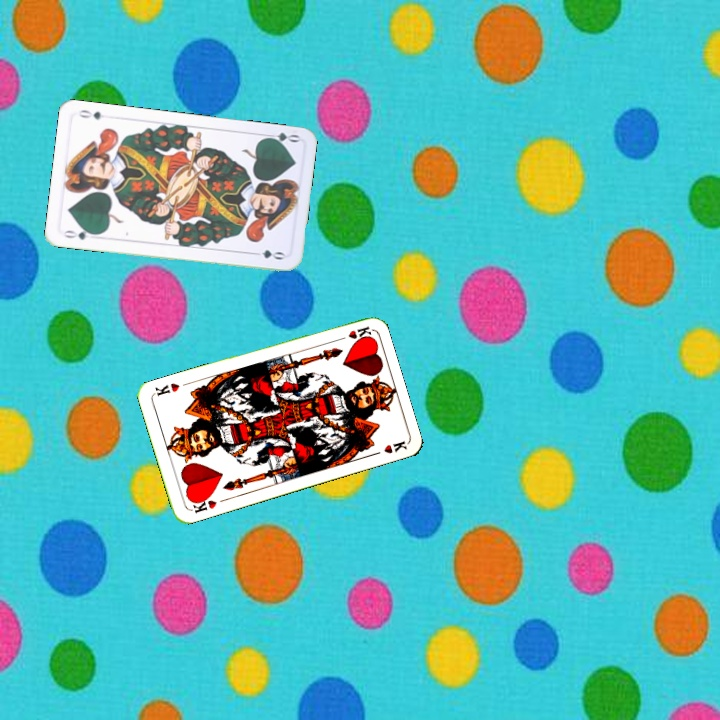GO: (260, 128, 301, 147), (59, 225, 100, 243)
HK: (332, 322, 373, 344), (187, 492, 219, 516)
